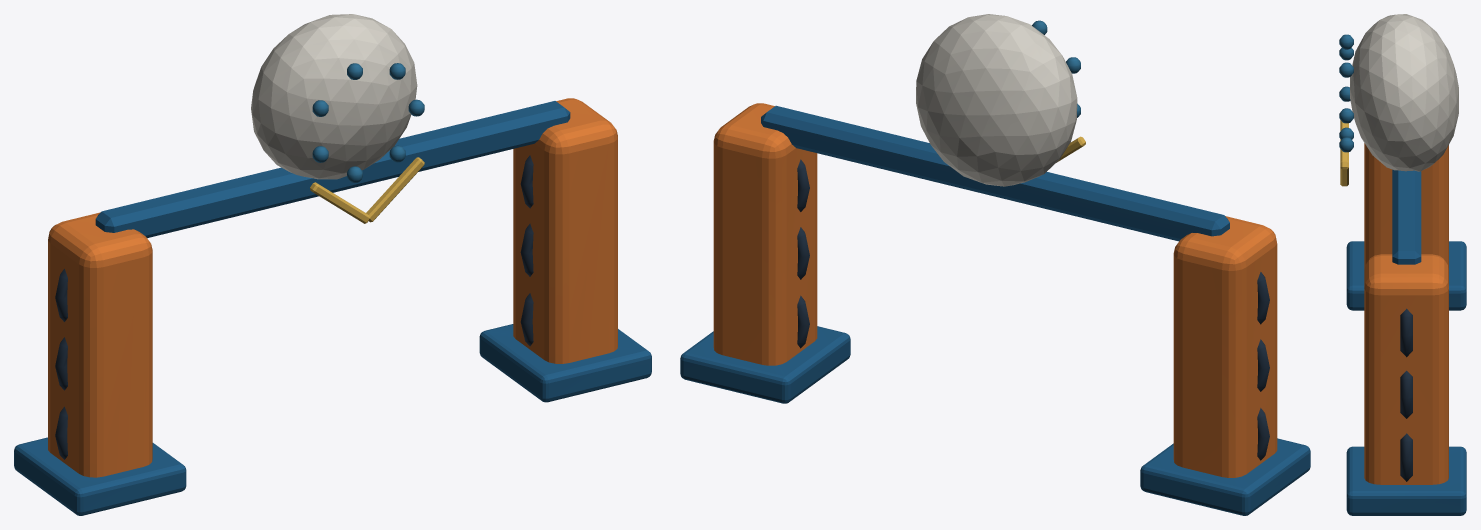
File: glacier_snowball_warning_v1.glb
3 views of the same model, side by side, from view 1: azimuth 30°, elevation 25°; view 2: azimuth 150°, elevation 25°; view 3: azimuth 270°, elevation 25° (orthographic). The views are drawn at different scales.
Visible parts, largest first — view 1: glacier_snowball_warning_v1; view 2: glacier_snowball_warning_v1; view 3: glacier_snowball_warning_v1.
Boxes of the visible parts, <box> form: glacier_snowball_warning_v1: <box>14,14,651,515</box>; glacier_snowball_warning_v1: <box>680,14,1310,515</box>; glacier_snowball_warning_v1: <box>1339,14,1466,515</box>.
Bounding box in the file's own units: 5.82 × 3.95 × 1.23.
